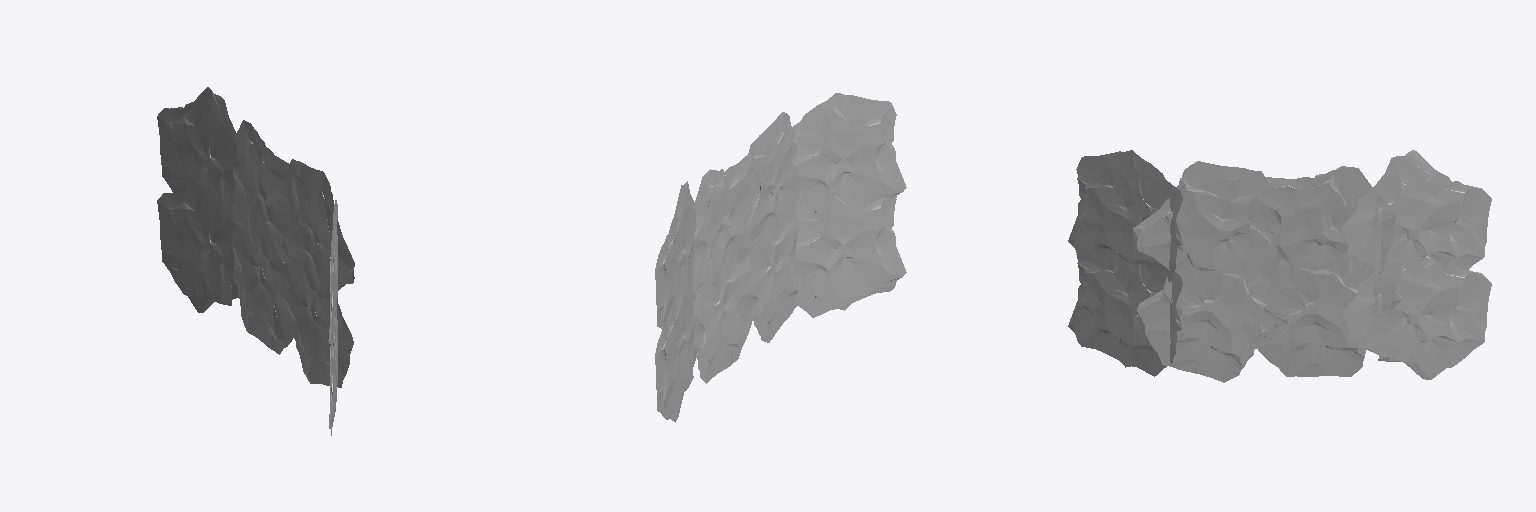
The model's file is RockWall.obj.
The picture shows the model from 3 angles: view 1: azimuth 30°, elevation 25°; view 2: azimuth 150°, elevation 25°; view 3: azimuth 270°, elevation 25°; orthographic projection.
Parts seen in each view (by area): view 1: Cube.002, Cube.003, Cube.005, Cube.001, Cube.004, Cube, Cube.006, Cube.007; view 2: Cube.006, Cube.007, Cube.005, Cube, Cube.004, Cube.001, Cube.002, Cube.003; view 3: Cube.002, Cube.003, Cube.004, Cube.001, Cube.005, Cube, Cube.006, Cube.007.
Boxes of the visible parts, <box> form: Cube.002: <box>157,172,238,312</box>; Cube.003: <box>157,87,236,220</box>; Cube.005: <box>232,120,292,263</box>; Cube.001: <box>285,159,354,290</box>; Cube.004: <box>274,256,353,387</box>; Cube: <box>232,218,292,354</box>; Cube.006: <box>329,200,337,349</box>; Cube.007: <box>329,315,337,435</box>; Cube.006: <box>792,93,906,217</box>; Cube.007: <box>795,195,906,317</box>; Cube.005: <box>693,150,753,292</box>; Cube: <box>693,255,751,383</box>; Cube.004: <box>736,209,797,342</box>; Cube.001: <box>747,112,798,244</box>; Cube.002: <box>655,269,696,422</box>; Cube.003: <box>655,181,695,330</box>; Cube.002: <box>1342,255,1491,379</box>; Cube.003: <box>1342,150,1491,275</box>; Cube.004: <box>1137,259,1284,382</box>; Cube.001: <box>1133,161,1273,285</box>; Cube.005: <box>1257,166,1396,289</box>; Cube: <box>1255,259,1402,376</box>; Cube.006: <box>1068,150,1182,284</box>; Cube.007: <box>1068,254,1182,376</box>.
Size of the model in its own units: 29.99 by 101 by 167.